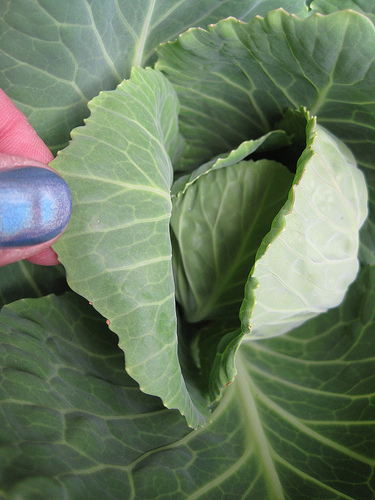cabbage: (1, 3, 373, 498)
